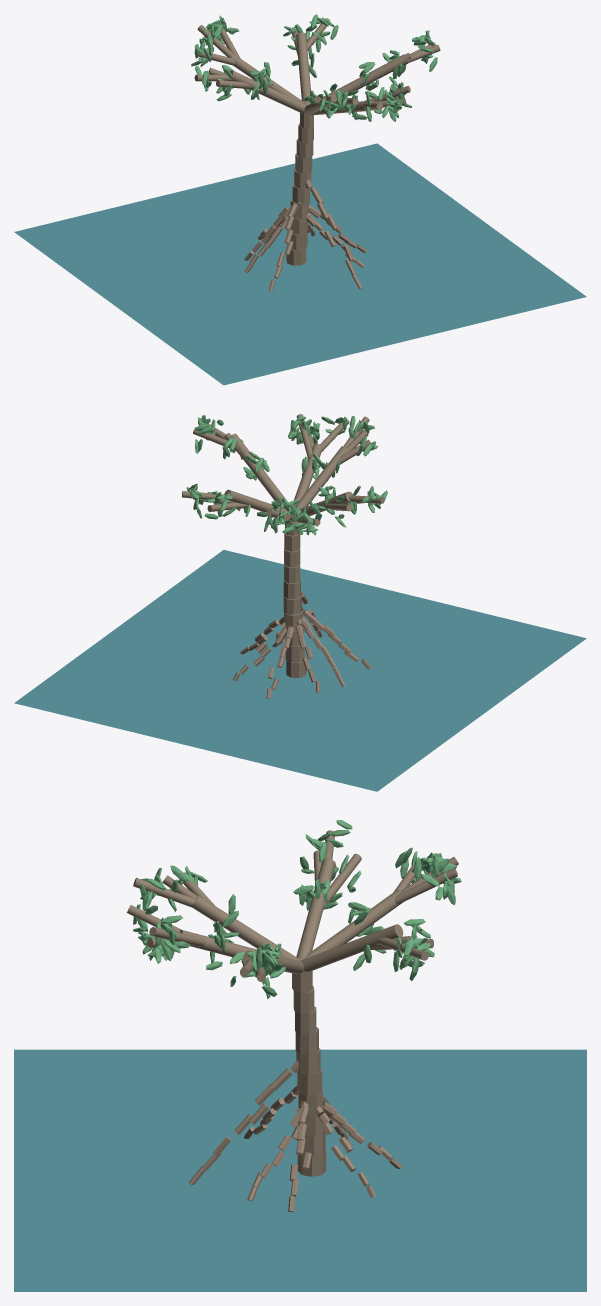
3 views of the same model, one above another, from view 1: azimuth 30°, elevation 25°; view 2: azimuth 150°, elevation 25°; view 3: azimuth 270°, elevation 25° (orthographic). The views are drawn at different scales.
Parts seen in each view (by area): view 1: Water, MangroveBranch_0, MangroveBranch_3, MangroveBranch_1, MangroveBranch_2; view 2: Water, MangroveBranch_0, MangroveBranch_4, MangroveBranch_5, MangroveBranch_1; view 3: Water, MangroveBranch_1, MangroveBranch_2, MangroveBranch_3, MangroveBranch_4, MangroveBranch_5.
Part boxes in pixels (x1=…): Water: x1=14, y1=143, x2=586, y2=385; MangroveBranch_0: x1=309, y1=54, x2=408, y2=104; MangroveBranch_3: x1=230, y1=70, x2=307, y2=113; MangroveBranch_1: x1=296, y1=32, x2=310, y2=104; MangroveBranch_2: x1=231, y1=54, x2=305, y2=103; Water: x1=14, y1=550, x2=586, y2=791; MangroveBranch_0: x1=230, y1=433, x2=286, y2=508; MangroveBranch_4: x1=295, y1=446, x2=347, y2=508; MangroveBranch_5: x1=294, y1=443, x2=321, y2=505; MangroveBranch_1: x1=224, y1=489, x2=287, y2=512; Water: x1=14, y1=1049, x2=586, y2=1291; MangroveBranch_1: x1=300, y1=924, x2=403, y2=971; MangroveBranch_2: x1=303, y1=889, x2=402, y2=959; MangroveBranch_3: x1=296, y1=858, x2=335, y2=960; MangroveBranch_4: x1=192, y1=895, x2=299, y2=960; MangroveBranch_5: x1=180, y1=929, x2=290, y2=958.
Bounding box in the file's own units: 10 × 5.77 × 10.
